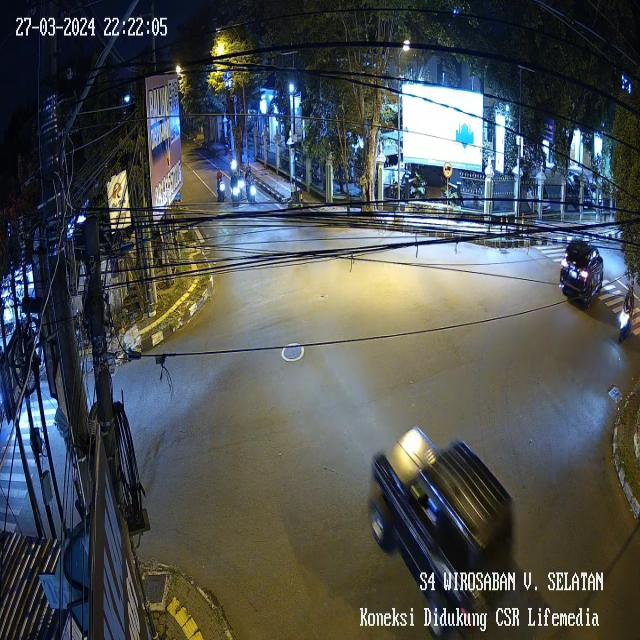car: (360, 417, 522, 640), (553, 234, 605, 312)
motorcycle: (615, 280, 635, 347), (216, 163, 230, 208), (246, 171, 258, 211), (231, 172, 240, 211), (236, 172, 248, 198), (228, 154, 238, 176)
